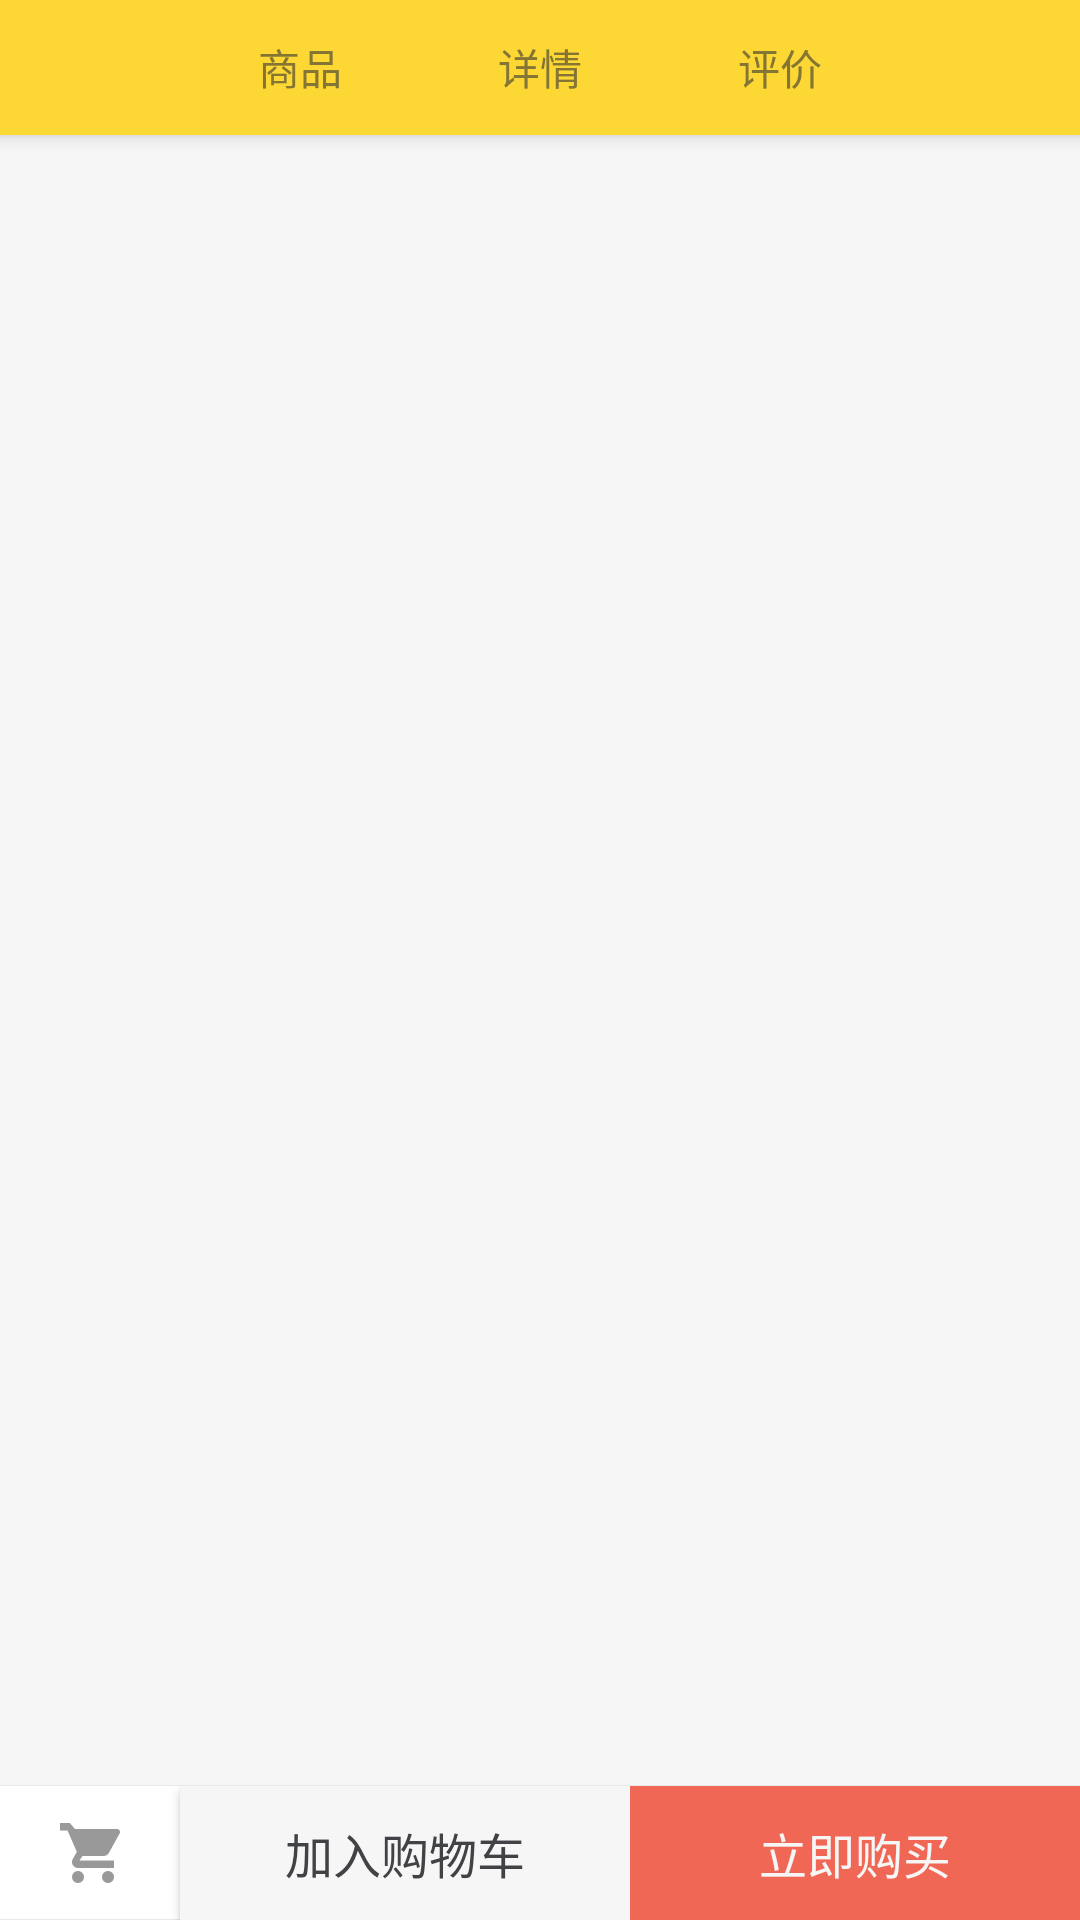

Icon click points for this 1080 x 1920 phone screenshot, format point (x, y):
cart: point (90, 1853)
